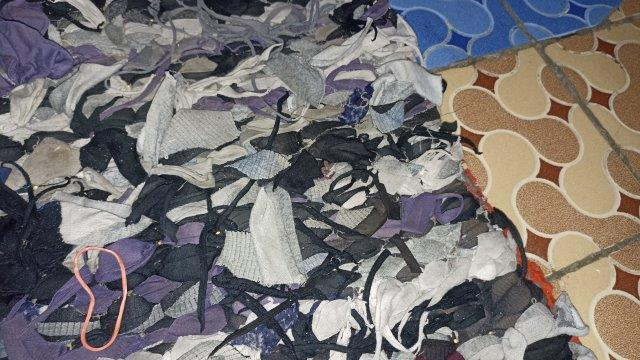karet: (74, 247, 128, 351)
